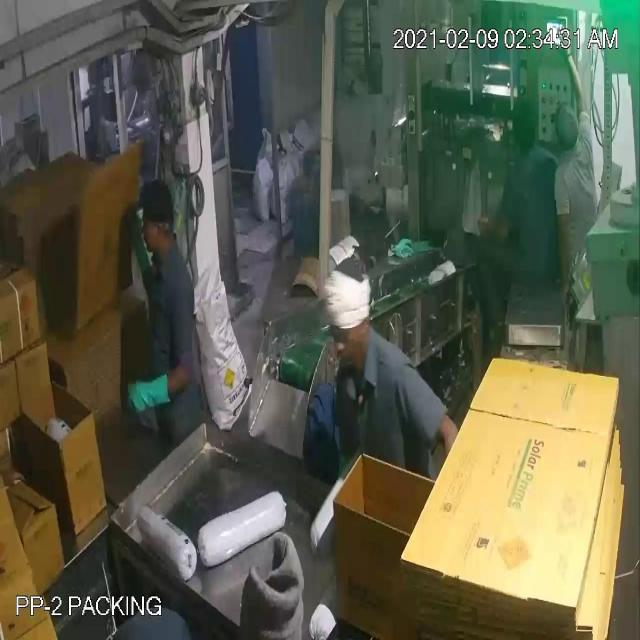Gloves: (48, 54, 494, 395)
